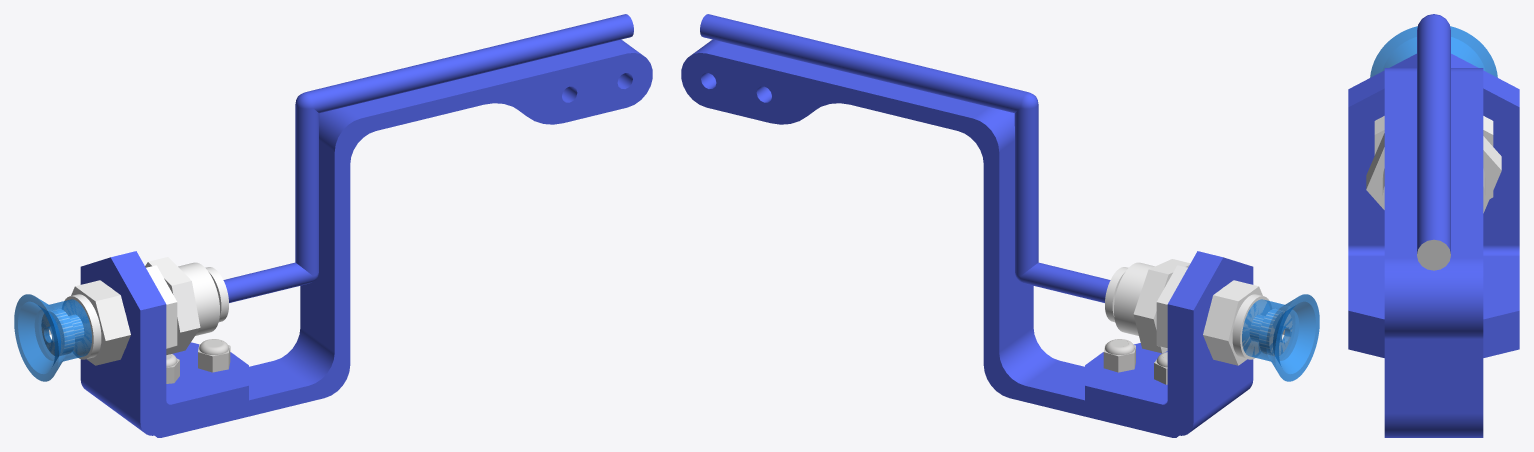
File: suctionCupGripper.dae
The picture shows the model from 3 angles, left to right: view 1: azimuth 30°, elevation 25°; view 2: azimuth 150°, elevation 25°; view 3: azimuth 270°, elevation 25°; orthographic projection. The views are drawn at different scales.
Visible parts, largest first — view 1: suctionCupGripperV2; view 2: suctionCupGripperV2; view 3: suctionCupGripperV2.
Boxes of the visible parts, <box> form: suctionCupGripperV2: <box>14,14,652,437</box>; suctionCupGripperV2: <box>681,14,1319,437</box>; suctionCupGripperV2: <box>1348,14,1519,437</box>.
Bounding box in the file's own units: 116 × 20 × 56.
